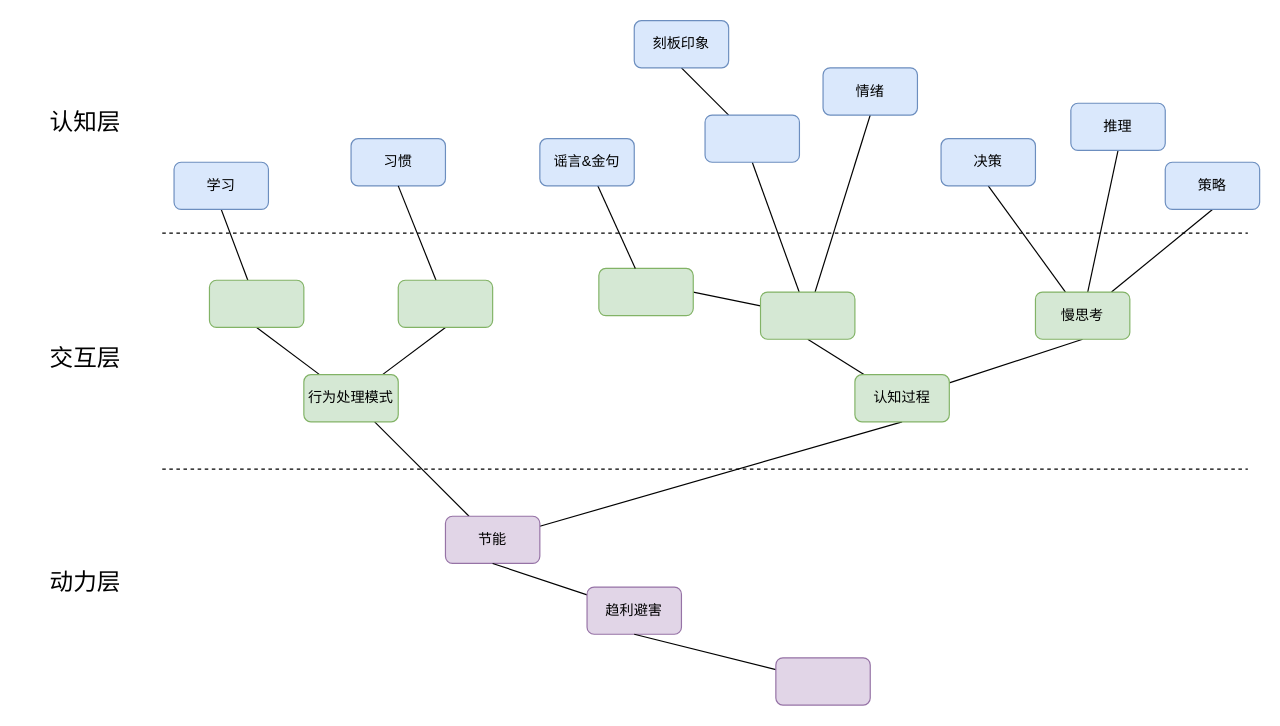
The diagram is 1280 pixels wide and 726 high, and some of its shapes have lost their labels. Each missing label, with the centre of its shape:
"快思考" goes at point (807, 315).
"控制加工" goes at point (256, 303).
"生存繁衍" goes at point (822, 681).
"直觉" goes at point (751, 138).
"自动化加工" goes at point (445, 303).
"认知流畅性" goes at point (645, 291).
